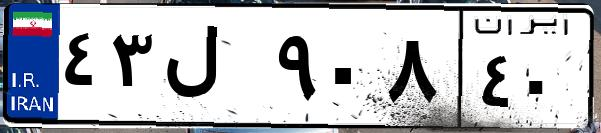0: (330, 28, 385, 110), (525, 38, 570, 115)
3: (110, 28, 158, 98)
4: (57, 26, 110, 100), (475, 38, 525, 113)
8: (385, 28, 445, 110)
9: (270, 28, 330, 110)
ل: (158, 20, 270, 120)
